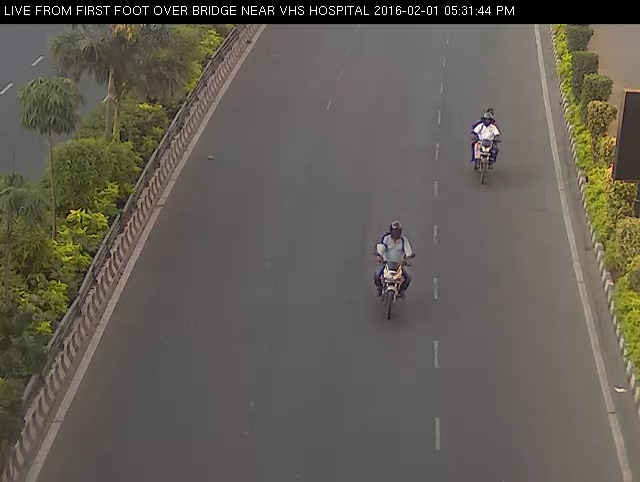Person: (367, 205, 421, 328), (461, 98, 509, 193)
